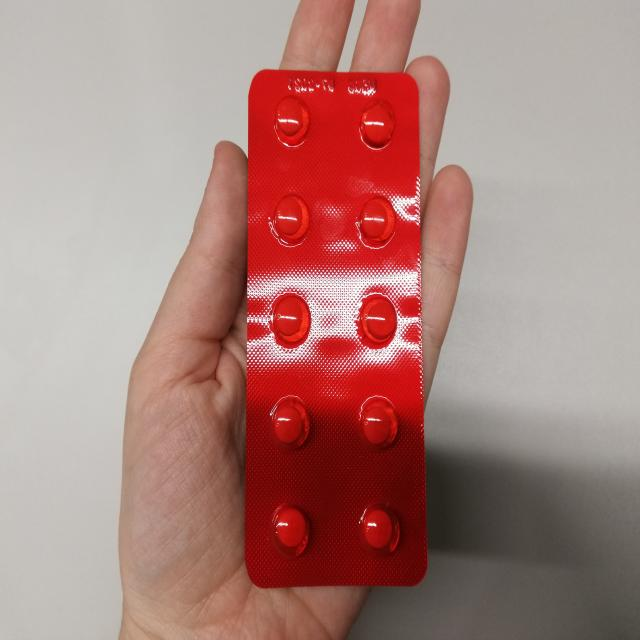Pill: (338, 189, 408, 248), (346, 285, 404, 354), (258, 187, 317, 252), (260, 389, 318, 455), (258, 500, 318, 563), (350, 397, 407, 458), (260, 287, 314, 350), (352, 502, 406, 563), (264, 96, 321, 144), (350, 98, 400, 146)
